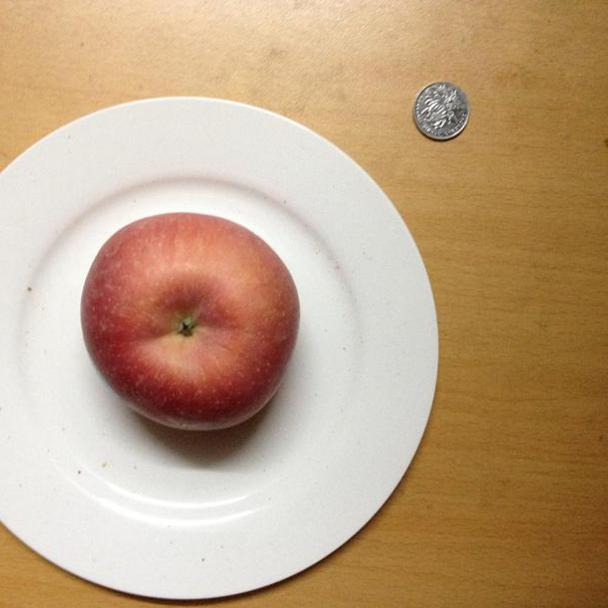apple: (80, 211, 300, 430)
